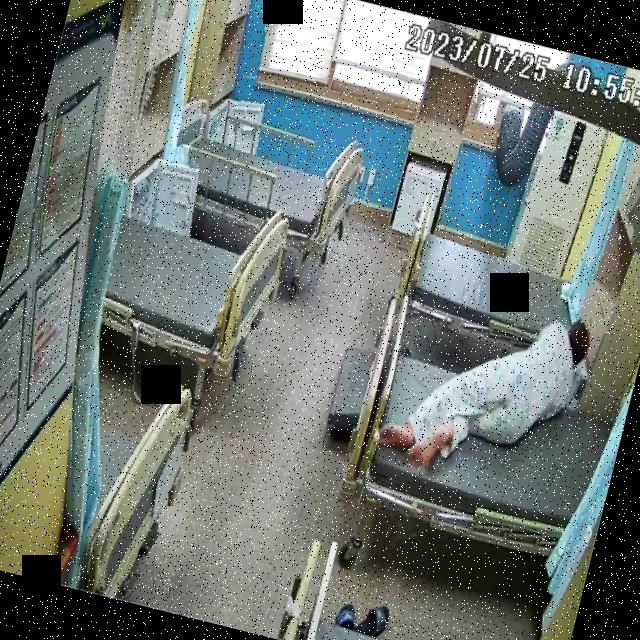bed: (351, 346, 620, 570), (89, 174, 299, 386), (157, 95, 366, 256), (390, 204, 595, 365)
danger: (372, 272, 600, 502)
patient: (372, 273, 598, 501)
